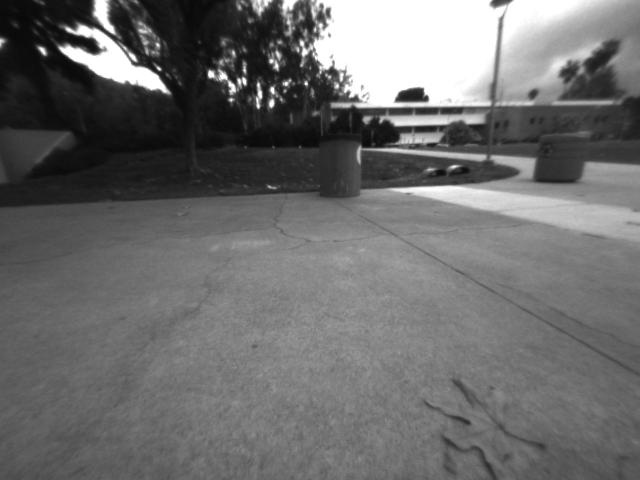trashcan: (536, 130, 588, 190), (320, 133, 362, 204)
